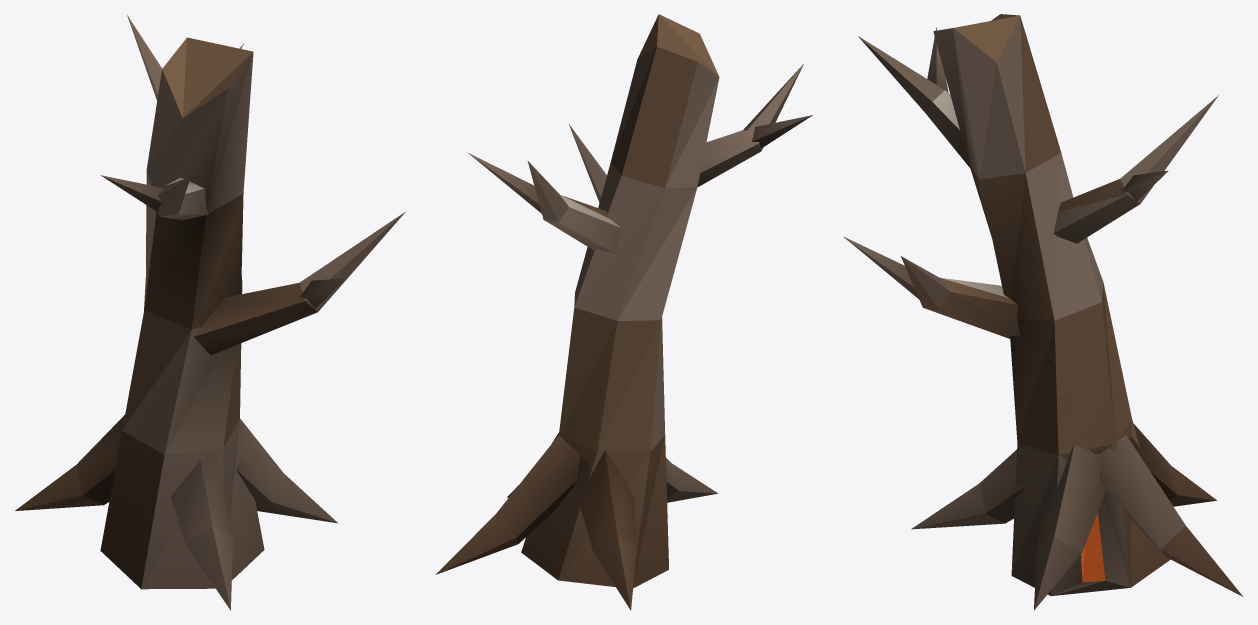
Rendered from ash_tree_dead_c.glb.
The picture shows the model from 3 angles, left to right: view 1: azimuth 30°, elevation 25°; view 2: azimuth 150°, elevation 25°; view 3: azimuth 270°, elevation 25°; orthographic projection. The views are drawn at different scales.
Visible parts, largest first — view 1: ca_ash_tree_dead_c; view 2: ca_ash_tree_dead_c; view 3: ca_ash_tree_dead_c.
Boxes of the visible parts, x1=… form: ca_ash_tree_dead_c: x1=15, y1=15, x2=405, y2=610; ca_ash_tree_dead_c: x1=435, y1=14, x2=812, y2=610; ca_ash_tree_dead_c: x1=843, y1=14, x2=1242, y2=610.
Bounding box in the file's own units: 1.72 × 3.2 × 2.12.
Materials: 1 (1 with a texture image).
